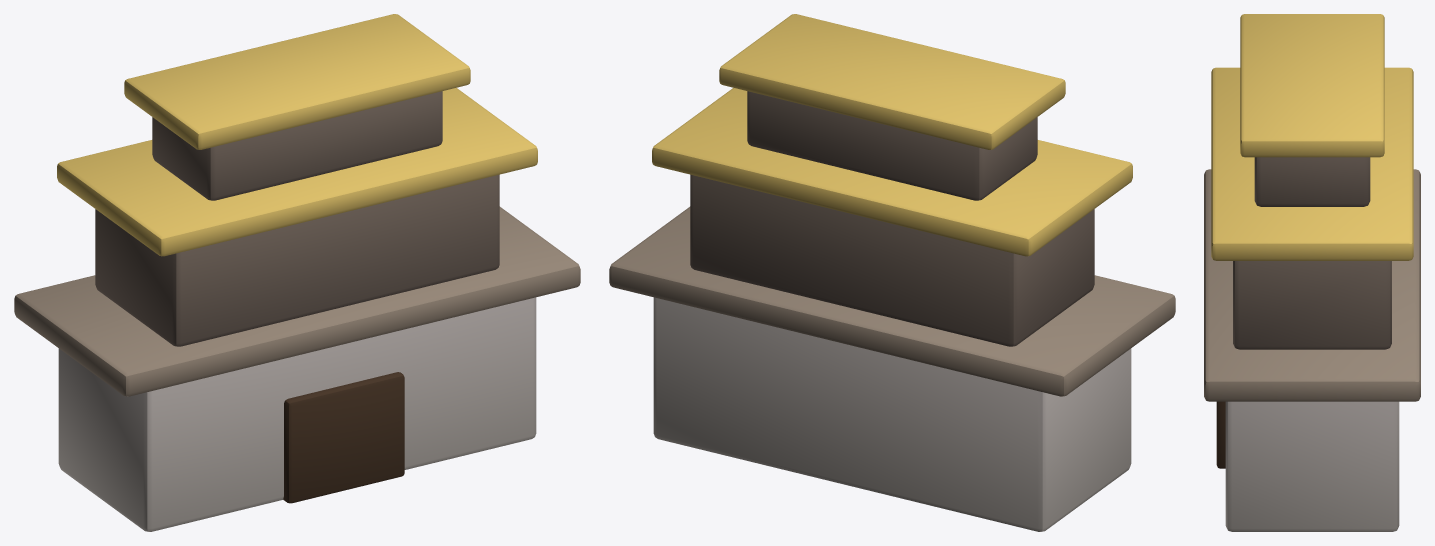
The picture shows the model from 3 angles, left to right: view 1: azimuth 30°, elevation 25°; view 2: azimuth 150°, elevation 25°; view 3: azimuth 270°, elevation 25°; orthographic projection. The views are drawn at different scales.
Visible parts, largest first — view 1: landmark_6d3812ad; view 2: landmark_6d3812ad; view 3: landmark_6d3812ad.
Part boxes in pixels (x1,y1,x2,y2): landmark_6d3812ad: (14, 14, 580, 531); landmark_6d3812ad: (609, 14, 1175, 531); landmark_6d3812ad: (1204, 14, 1420, 531).
Bounding box in the file's own units: 7 × 5.59 × 3.
